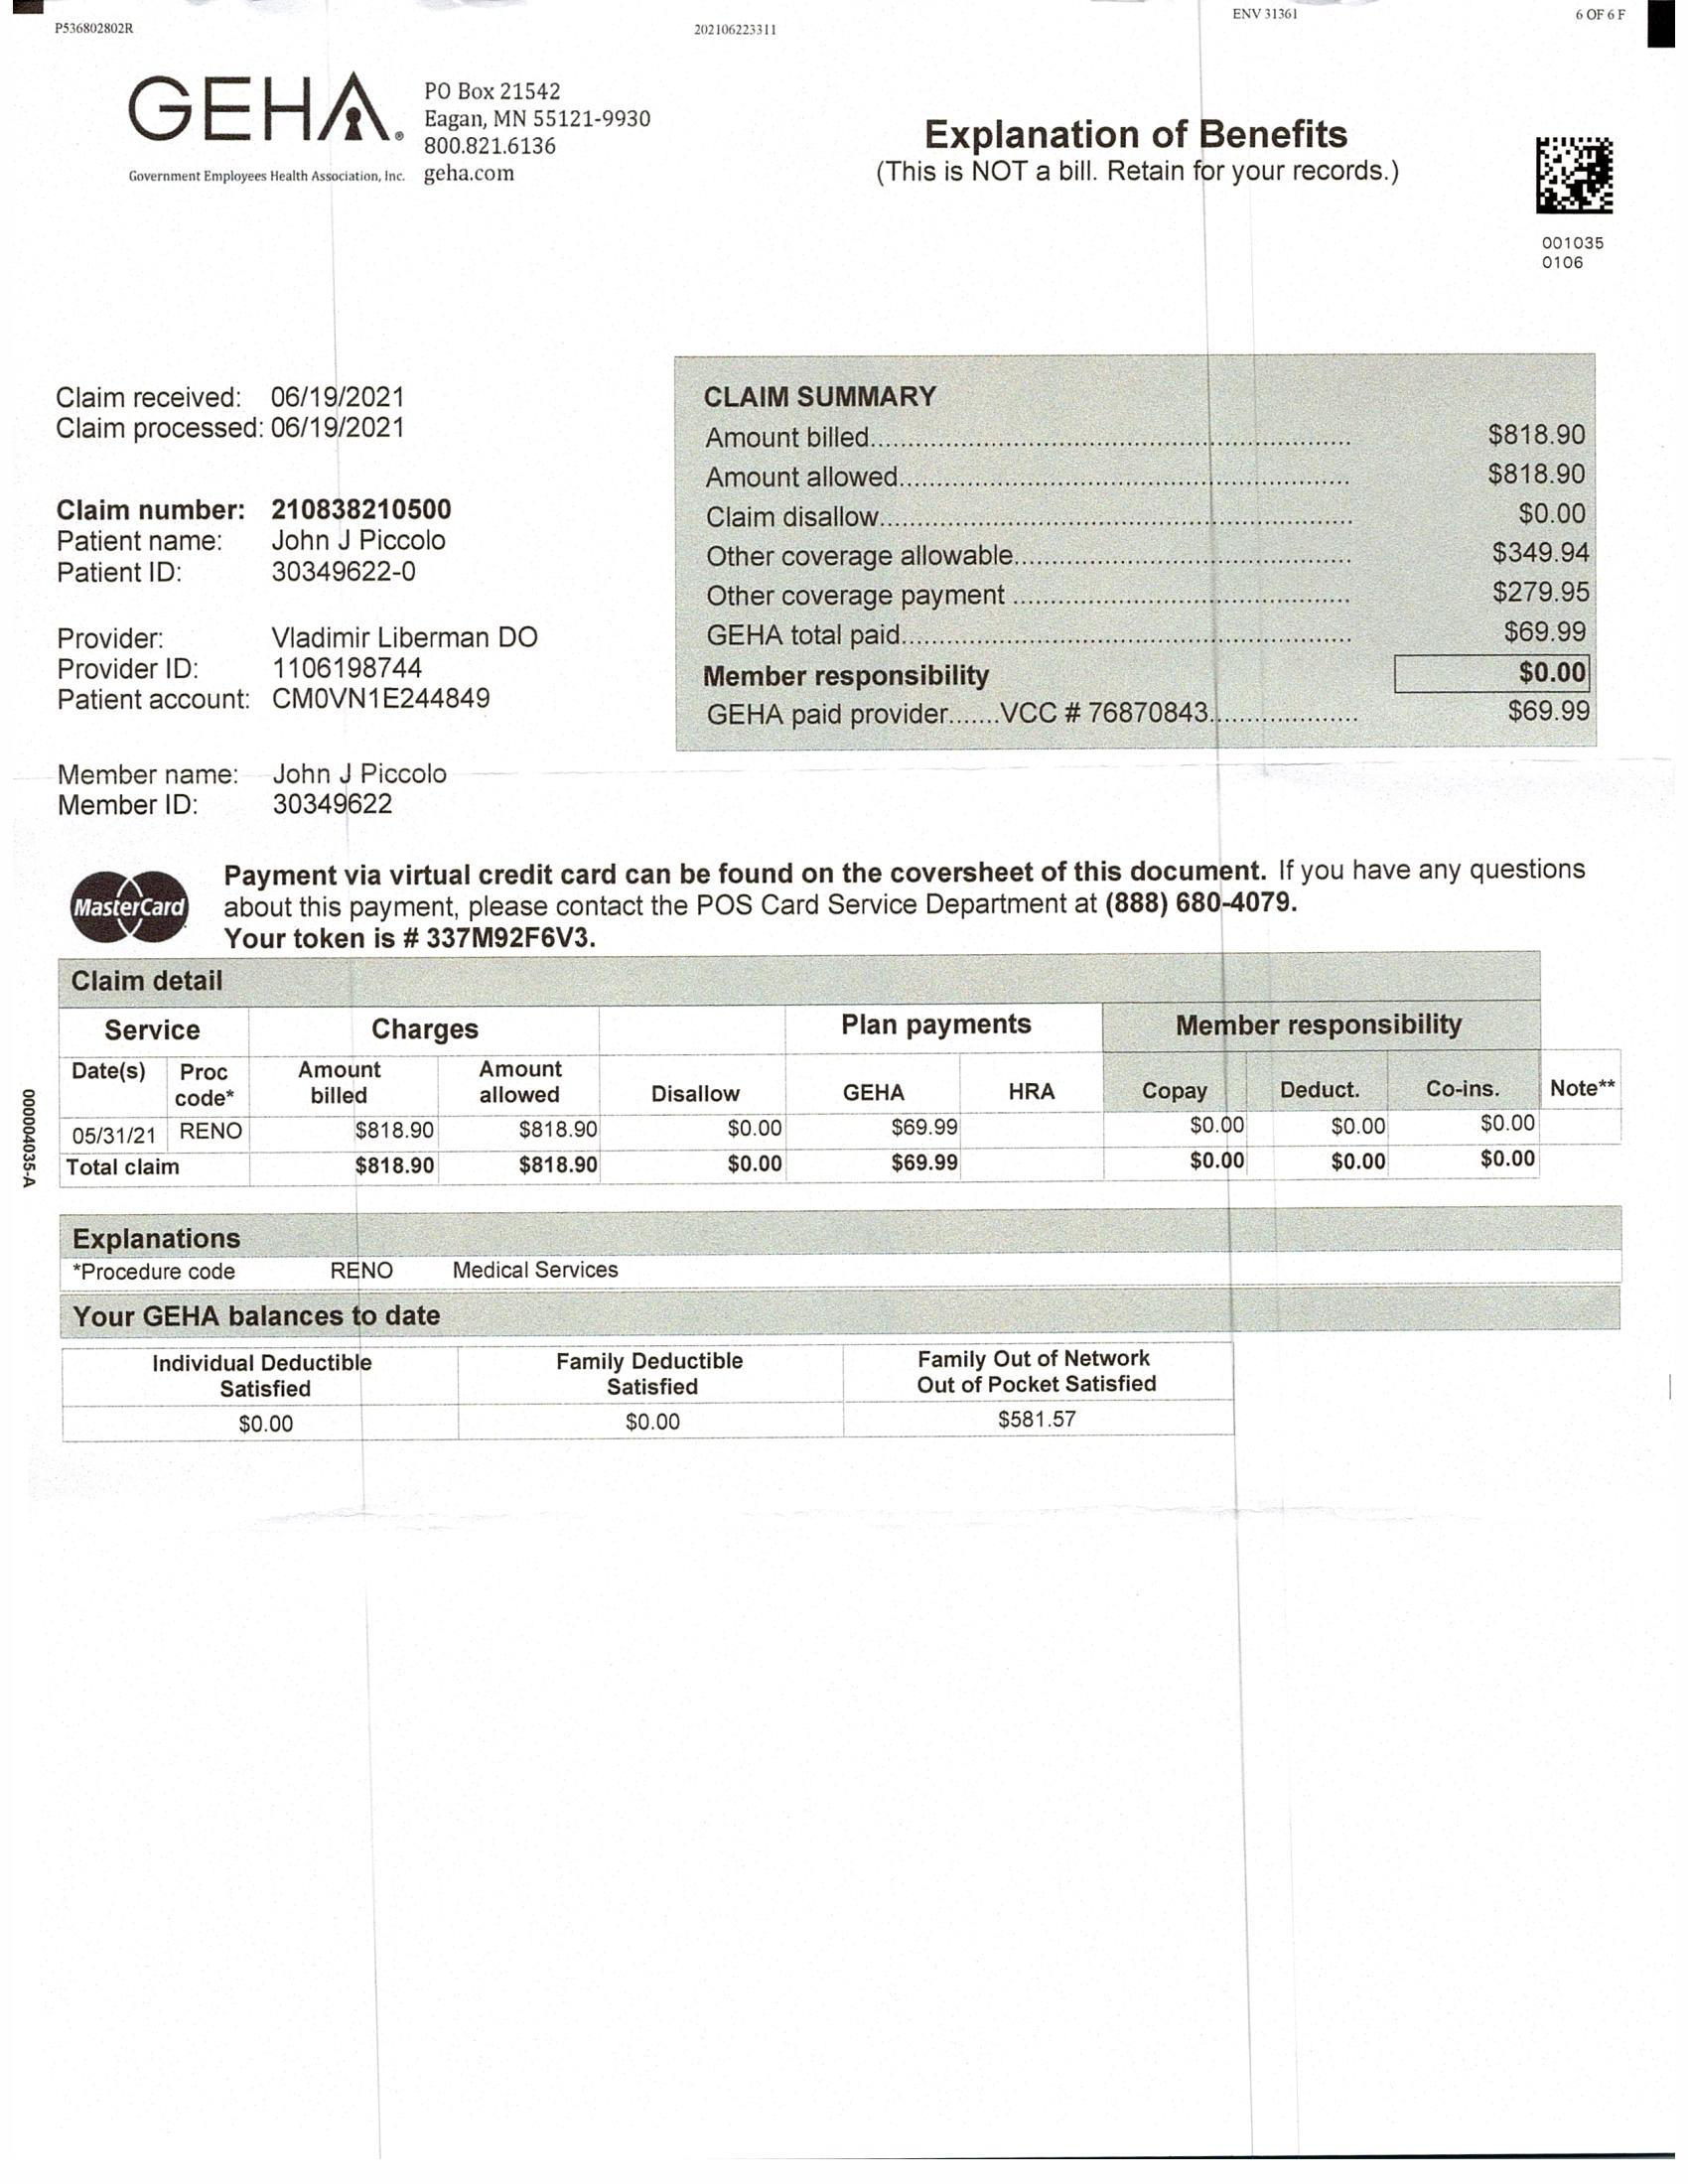data: (665, 340, 1621, 768), (44, 362, 574, 842)
table: (51, 950, 1637, 1195)
